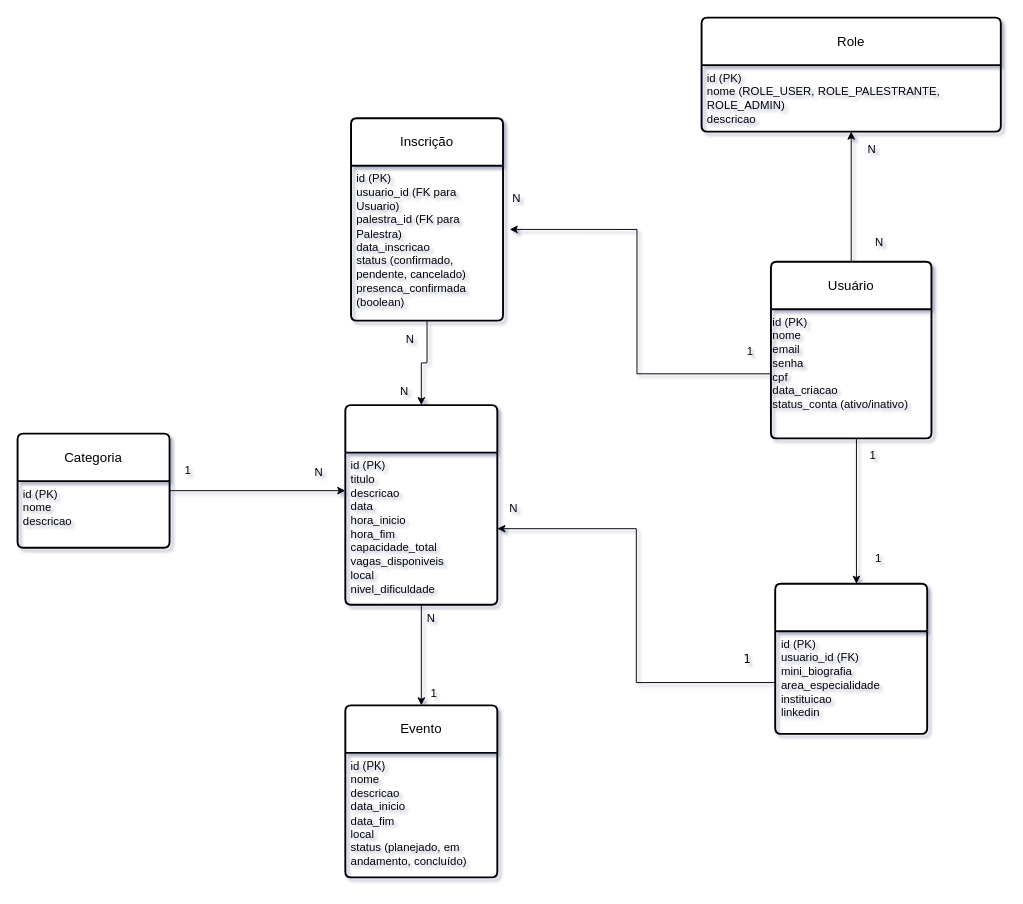
Some shapes in this 1023 by 904 pixel diagram are drawn without their labels. The box of each missing label's shape, as (x1, y1, x2, y2) in pixels:
Palestra: (344, 404, 498, 605)
Palestrante: (774, 582, 928, 734)
